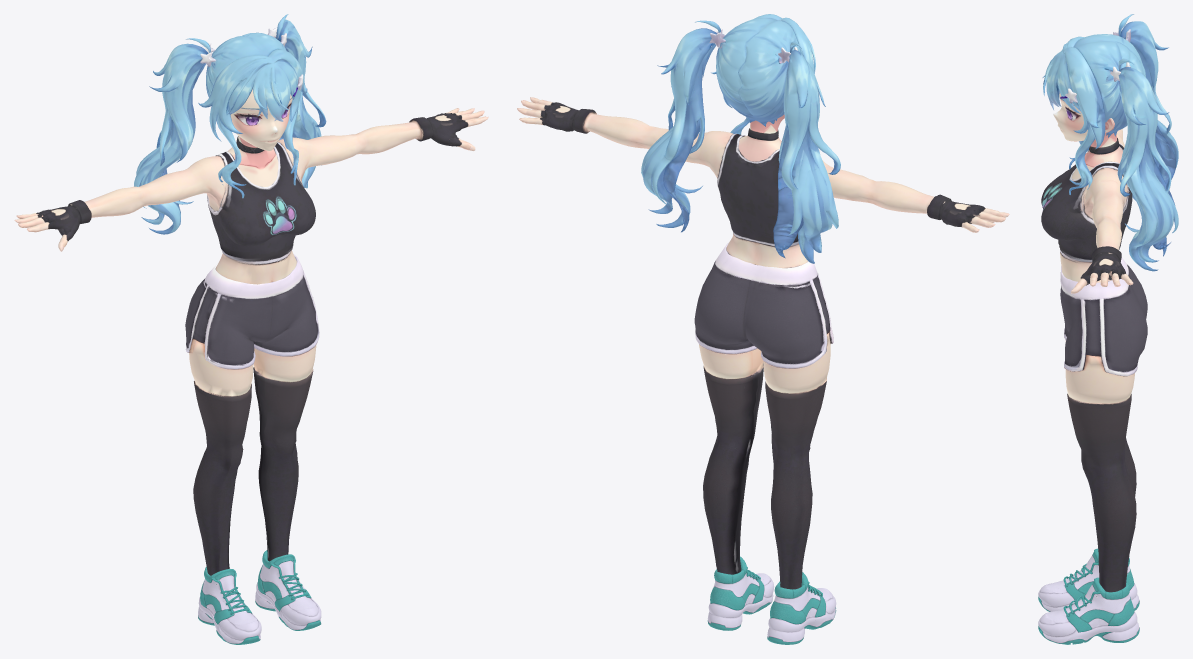
File: human_body_idle_animated.glb
3 renders of one model, left to right at view 1: azimuth 30°, elevation 25°; view 2: azimuth 150°, elevation 25°; view 3: azimuth 270°, elevation 25°, orthographic. The views are drawn at different scales.
Parts seen in each view (by area): view 1: Object_10, Object_4, Object_6, Object_12, Object_8; view 2: Object_10, Object_6, Object_4, Object_12, Object_8; view 3: Object_10, Object_6, Object_4, Object_12, Object_8.
Part boxes in pixels (x1=…): Object_10: x1=185, y1=254, x2=319, y2=575; Object_4: x1=14, y1=108, x2=488, y2=284; Object_6: x1=134, y1=14, x2=326, y2=234; Object_12: x1=198, y1=550, x2=321, y2=644; Object_8: x1=228, y1=89, x2=292, y2=186; Object_10: x1=694, y1=242, x2=833, y2=589; Object_6: x1=641, y1=14, x2=840, y2=263; Object_4: x1=517, y1=97, x2=1009, y2=268; Object_12: x1=707, y1=556, x2=836, y2=644; Object_8: x1=738, y1=114, x2=784, y2=161; Object_10: x1=1060, y1=257, x2=1147, y2=592; Object_6: x1=1042, y1=14, x2=1178, y2=271; Object_4: x1=1041, y1=129, x2=1133, y2=293; Object_12: x1=1038, y1=548, x2=1139, y2=644; Object_8: x1=1053, y1=92, x2=1122, y2=179.
Size of the model in its own units: 1.44 by 1.72 by 0.373.
5 materials, 5 textured.
